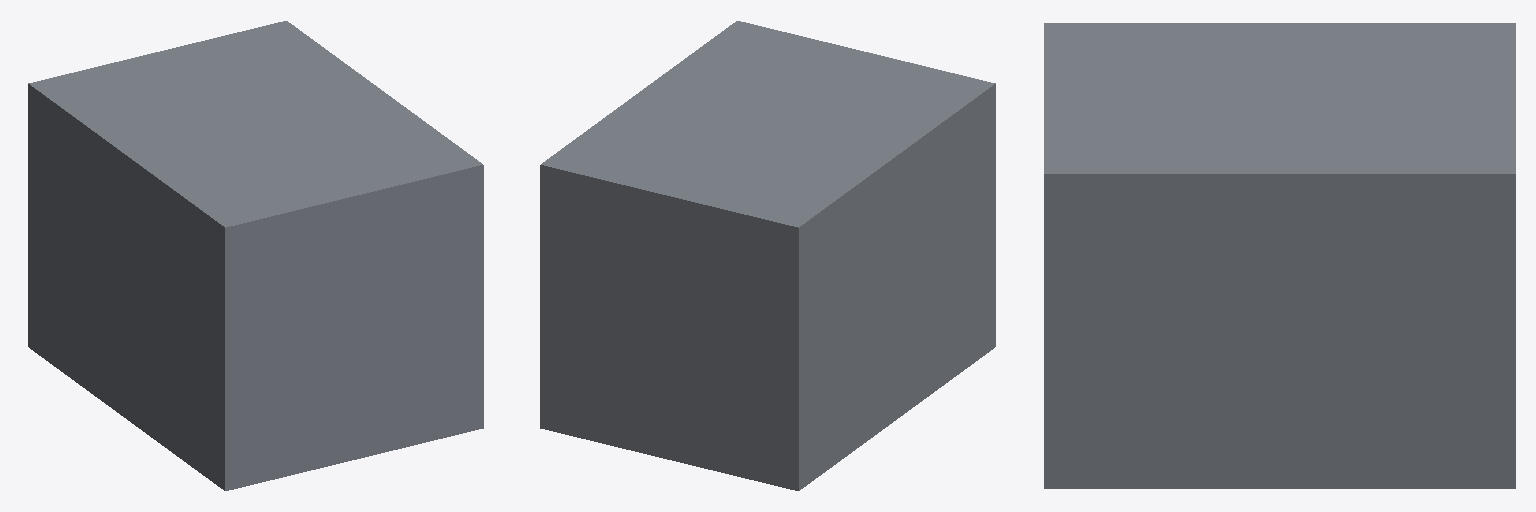
The robot description file, URDF, robot "weld_fixture_box":
<?xml version="1.0"?>
<!--
  weld_fixture_box - a lightweight PLACEHOLDER weld fixture for the Factory OS
  sample. It is a single box the size of a car-body weld fixture (1.51 x 1.99 x
  1.47 m, the bounding box of a production fixture's CAD), so a fitted scene and
  its planned motions stay geometrically realistic without shipping ~100 MB of
  fixture meshes. Units: metres, world/base frame (Z up), matching the sibling
  collections' NOTE.md conventions. Replace with the real fixture URDF for
  production work.
-->
<robot name="weld_fixture_box">
  <link name="World">
    <visual>
      <origin xyz="0.0575 0.0 0.7407" rpy="0 0 0"/>
      <geometry><box size="1.5094 1.993 1.4721"/></geometry>
      <material name="fixture_grey"><color rgba="0.55 0.57 0.60 1.0"/></material>
    </visual>
    <collision>
      <origin xyz="0.0575 0.0 0.7407" rpy="0 0 0"/>
      <geometry><box size="1.5094 1.993 1.4721"/></geometry>
    </collision>
  </link>
</robot>

--- Render facts (derived) ---
Views: 3 orthographic renders of the robot side by side, from view 1: azimuth 30°, elevation 25°; view 2: azimuth 150°, elevation 25°; view 3: azimuth 270°, elevation 25°.
Model weld_fixture_box with 1 links and 0 joints (none), rooted at World, posed every joint at zero.
Links seen in each view (by area): view 1: World; view 2: World; view 3: World.
Link boxes in pixels (box(x1,y1,x2,y2)): World: box(28, 21, 483, 490); World: box(540, 21, 995, 490); World: box(1044, 23, 1515, 488).
Bounding box of the posed robot: 1.51 × 1.99 × 1.47 m (x, y, z).
Geometry: primitives only (box / cylinder / sphere), no mesh files.
